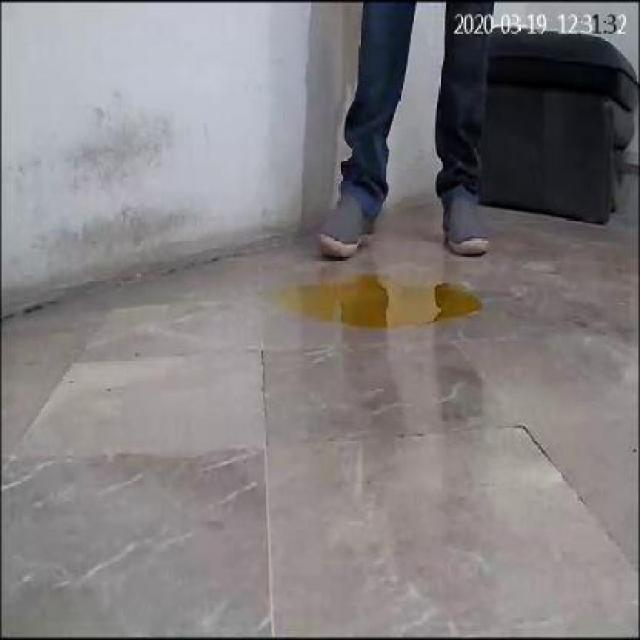spill: (278, 274, 480, 331)
